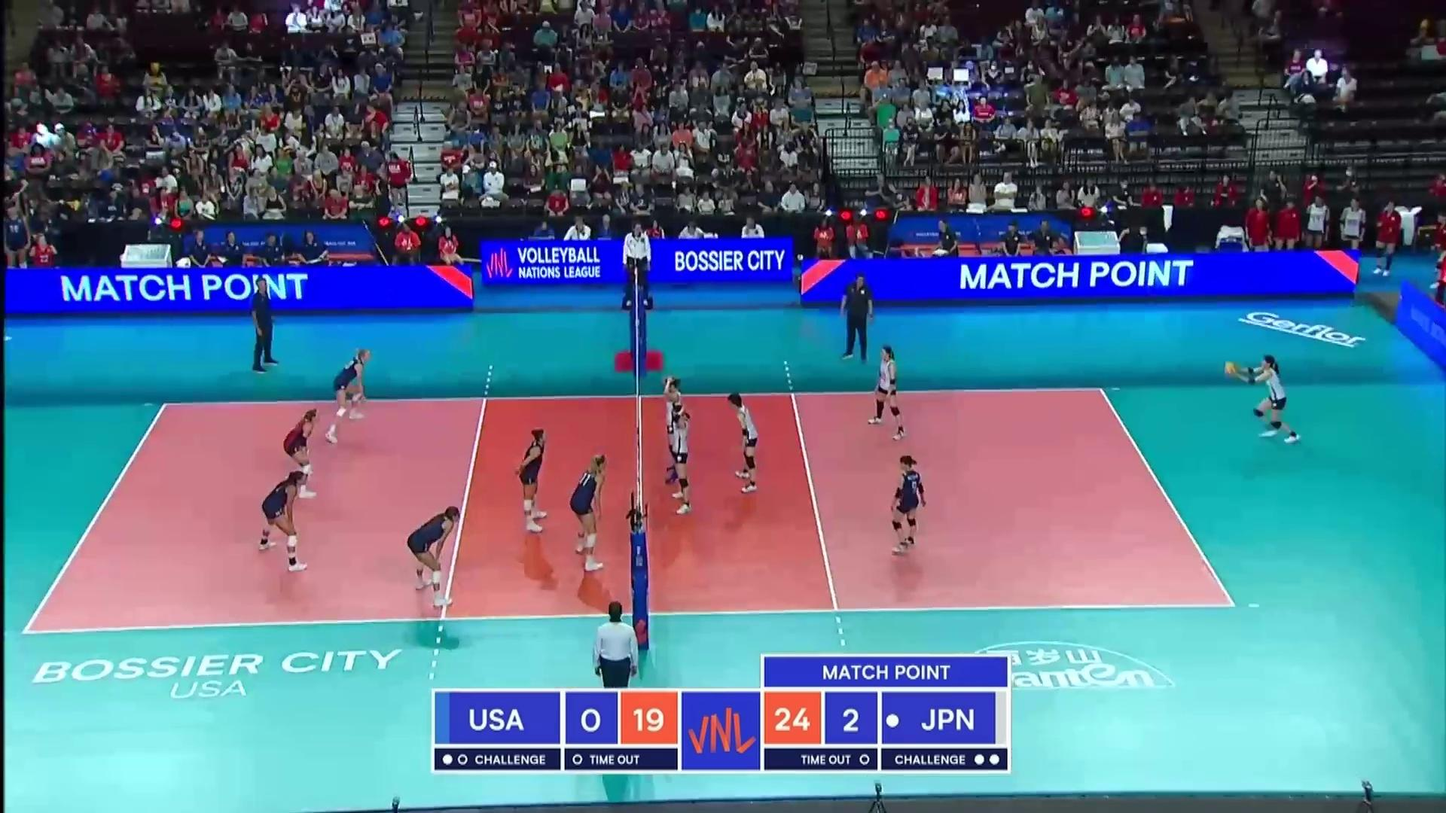player: (1231, 356, 1304, 446), (404, 505, 461, 603), (258, 471, 310, 571), (568, 451, 609, 568), (326, 347, 372, 446), (516, 428, 558, 536), (889, 457, 930, 554), (284, 408, 322, 497), (867, 347, 906, 432), (669, 402, 695, 517), (729, 389, 757, 495), (665, 378, 691, 484)
refree: (590, 600, 640, 717), (622, 223, 653, 309)
